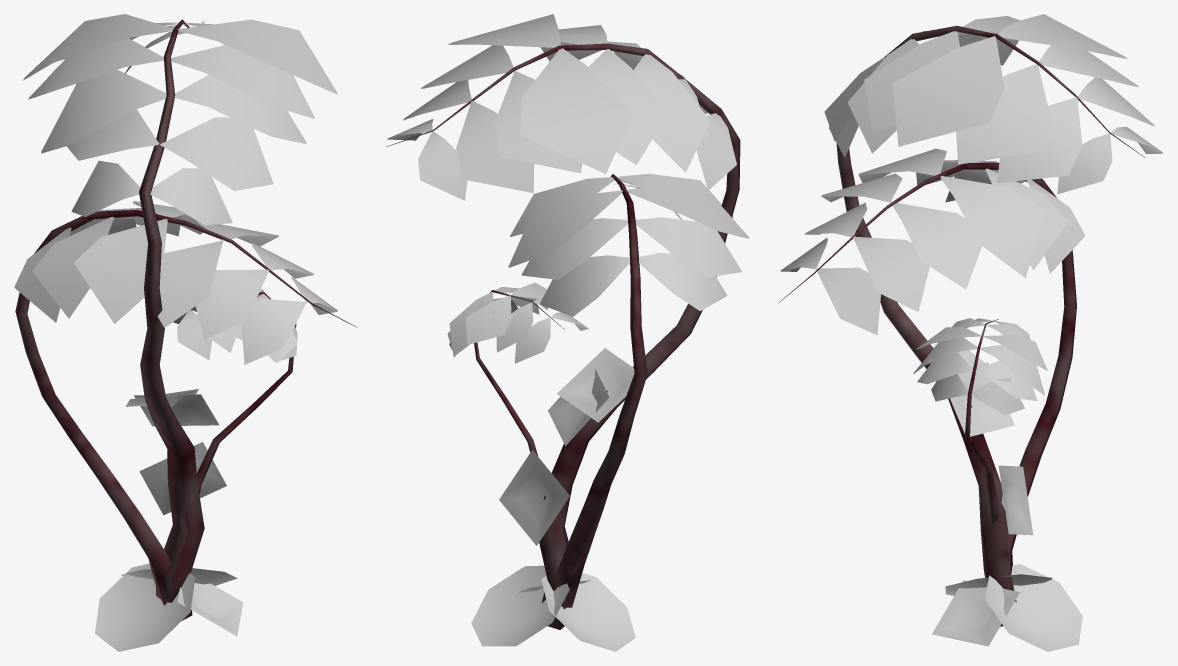
Rendered from Medium_Tree_3_Present.fbx.
3 renders of one model, left to right at view 1: azimuth 30°, elevation 25°; view 2: azimuth 150°, elevation 25°; view 3: azimuth 270°, elevation 25°, orthographic. The views are drawn at different scales.
Parts seen in each view (by area): view 1: Plane.074; view 2: Plane.074; view 3: Plane.074.
Boxes of the visible parts, x1,y1,x2,y2 form: Plane.074: [14, 14, 357, 651]; Plane.074: [386, 14, 749, 651]; Plane.074: [778, 14, 1163, 651].
Bounding box in the file's own units: 1927 × 3960 × 2327.
